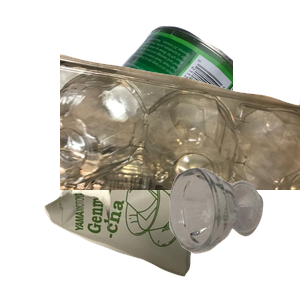glass: (166, 165, 300, 300)
metal: (60, 23, 300, 203)
plastic: (60, 52, 300, 232)
trash: (42, 126, 249, 300)
